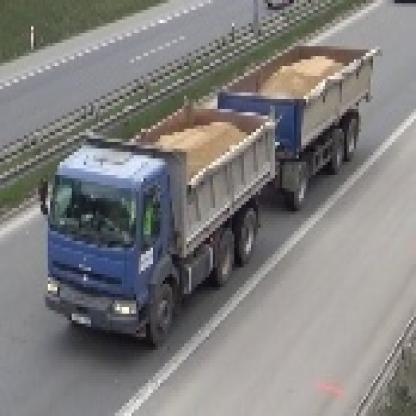truck: (39, 38, 374, 345)
